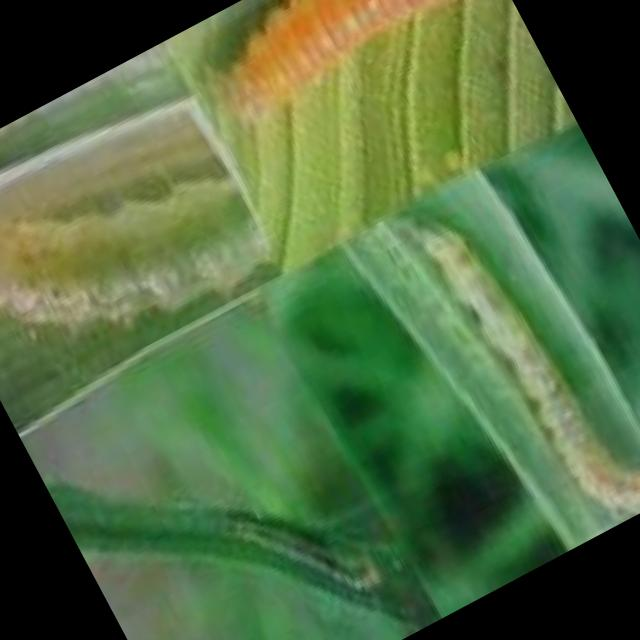leaf-folder: (363, 141, 640, 565), (0, 88, 279, 415), (198, 0, 525, 161), (188, 414, 419, 640)
